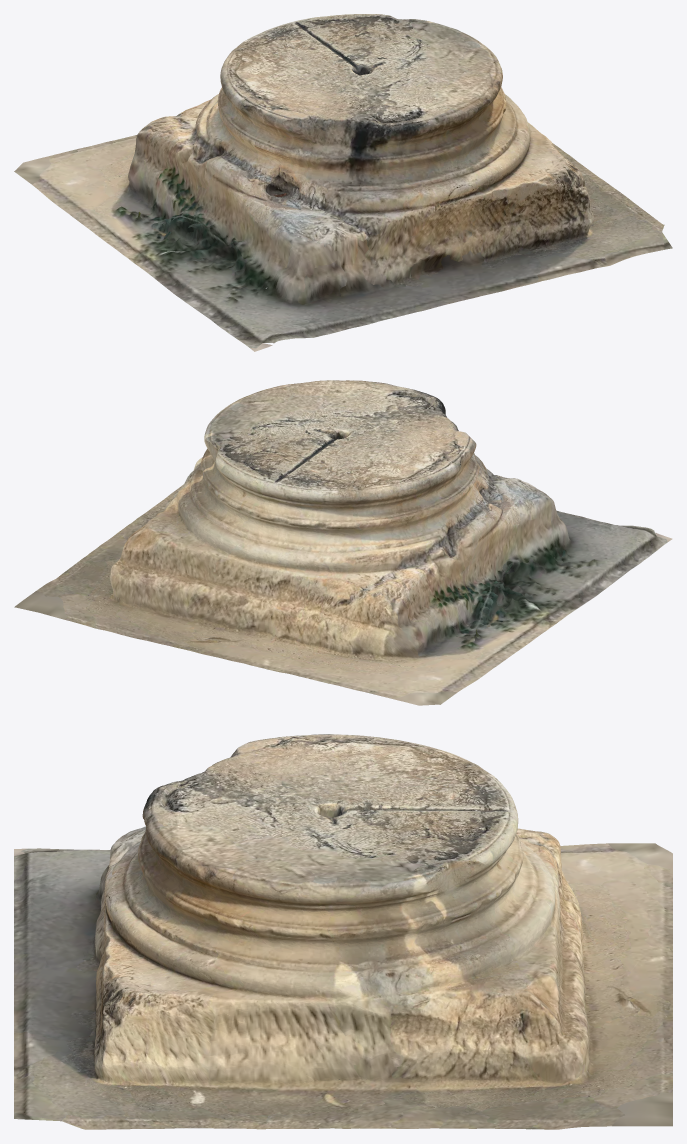
The model's file is roman-column-base.glb.
The picture shows the model from 3 angles, top to bottom: view 1: azimuth 30°, elevation 25°; view 2: azimuth 150°, elevation 25°; view 3: azimuth 270°, elevation 25°; orthographic projection. The views are drawn at different scales.
Parts seen in each view (by area): view 1: Object_2; view 2: Object_2; view 3: Object_2.
Boxes of the visible parts, x1,y1,x2,y2 form: Object_2: (14,14,672,351); Object_2: (14,380,672,705); Object_2: (14,734,672,1129).
Size of the model in its own units: 1.86 by 0.5809 by 1.84.
Materials: 1 (1 with a texture image).
